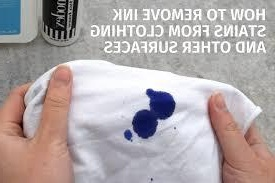ink: (147, 88, 175, 120), (132, 111, 157, 136), (125, 129, 131, 141)
